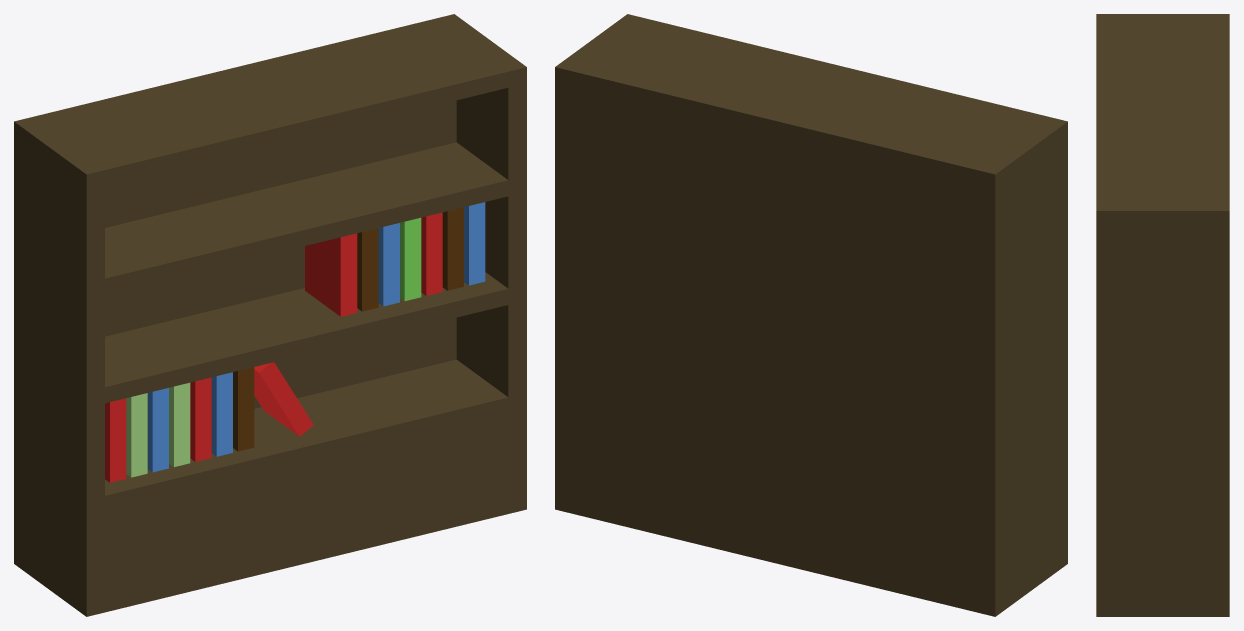
File: shelf.fbx
3 renders of one model, left to right at view 1: azimuth 30°, elevation 25°; view 2: azimuth 150°, elevation 25°; view 3: azimuth 270°, elevation 25°, orthographic. The views are drawn at different scales.
Visible parts, largest first — view 1: Cube.001; view 2: Cube.001; view 3: Cube.001.
Part boxes in pixels (x1=…): Cube.001: x1=14, y1=14, x2=526, y2=616; Cube.001: x1=555, y1=14, x2=1067, y2=616; Cube.001: x1=1096, y1=14, x2=1229, y2=616.
Bounding box in the file's own units: 200 × 192 × 57.07.
